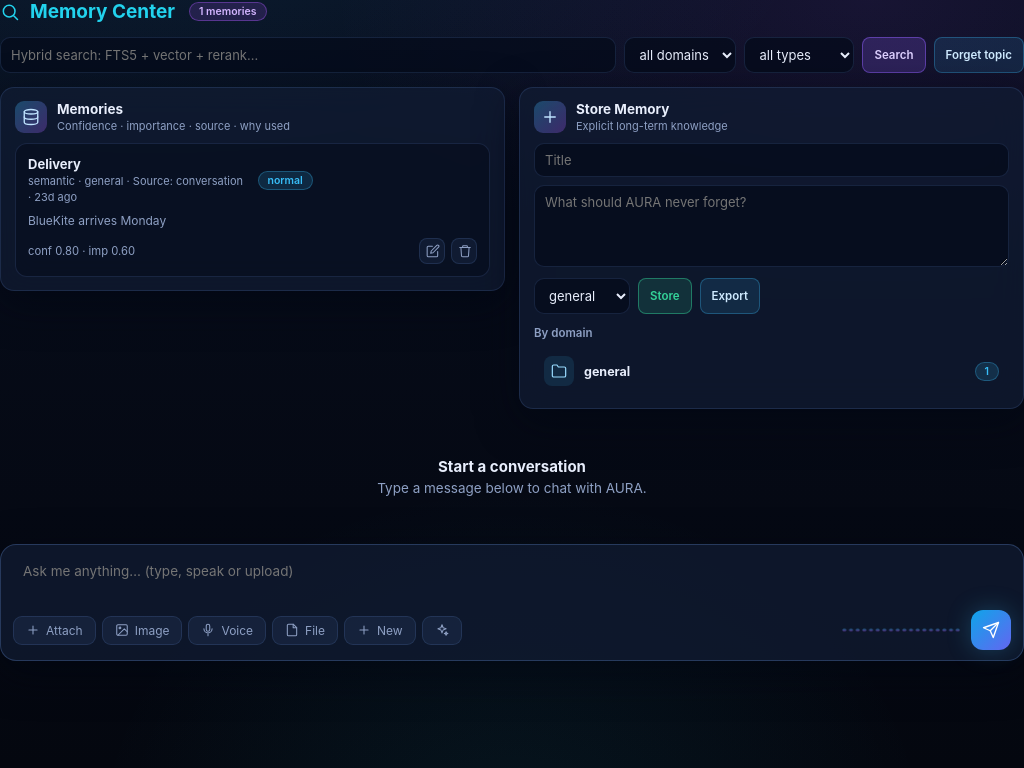
Scenario: keeps failed corrections editable with an announced error
Step 1. Click the button named "Correct Delivery" → (432, 251), box [419,238,445,264]
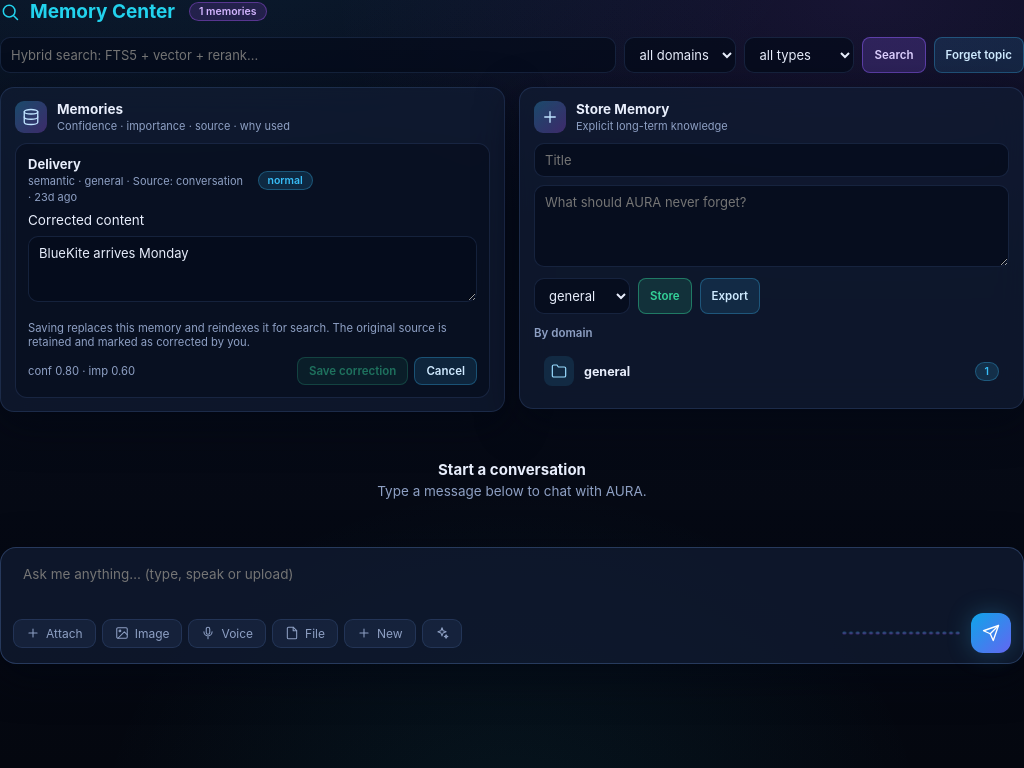
Step 2. Replace the text in the text box labelled "Corrected content" with "RedFinch arrives Friday" → (252, 269), box [28,236,477,302]
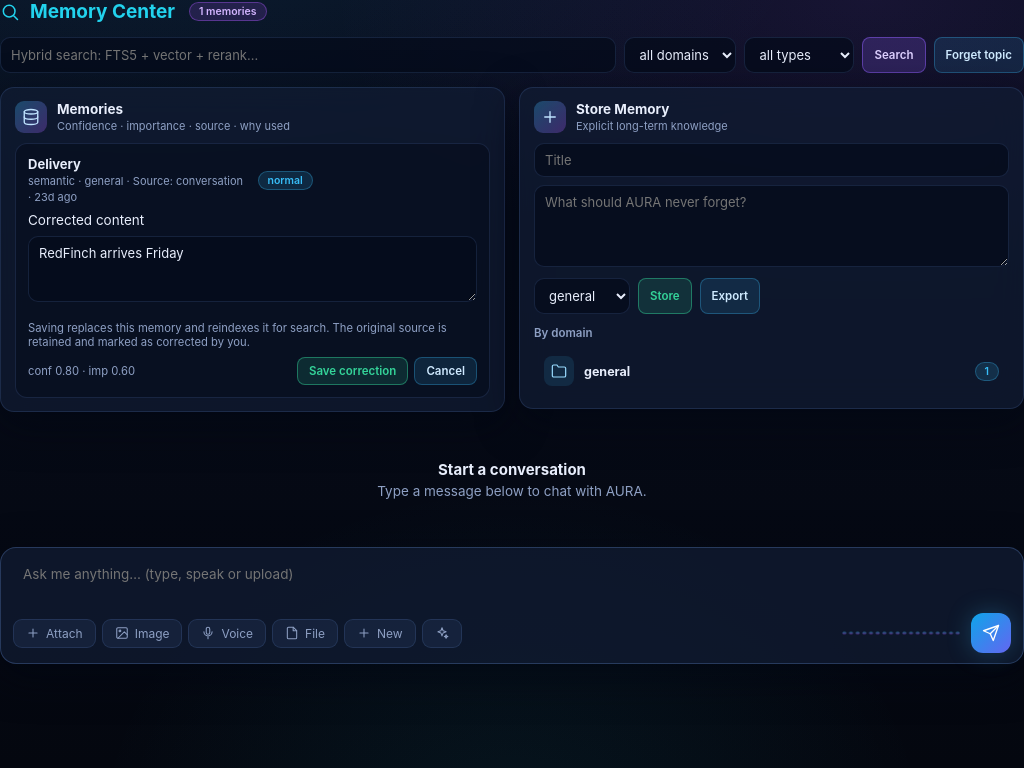
Step 3. Click the button "Save correction" → (353, 371), box [297,357,408,385]
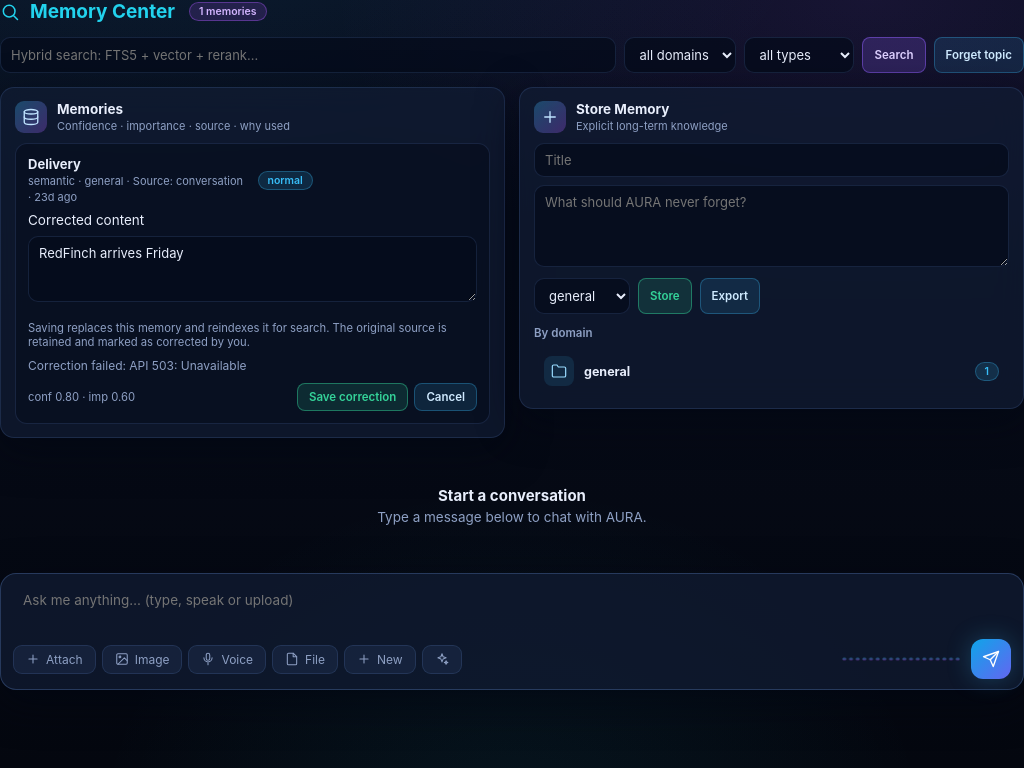
Check: the message shows "Correction failed", box [28,358,247,373]
